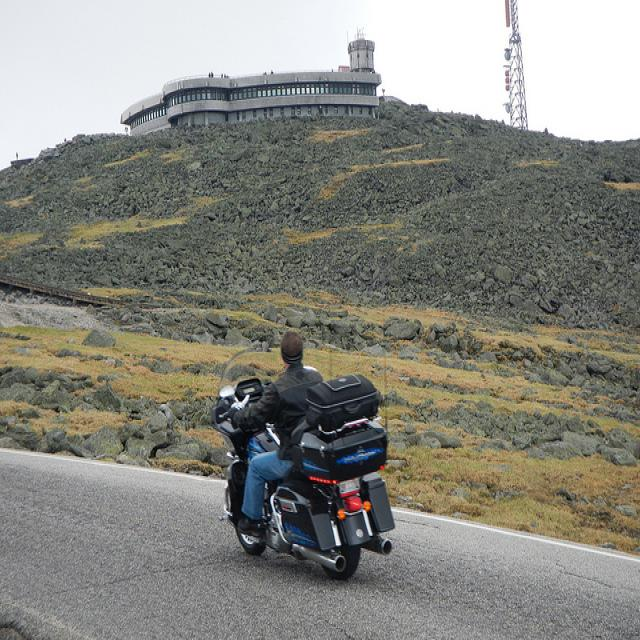motor: (208, 345, 397, 580)
